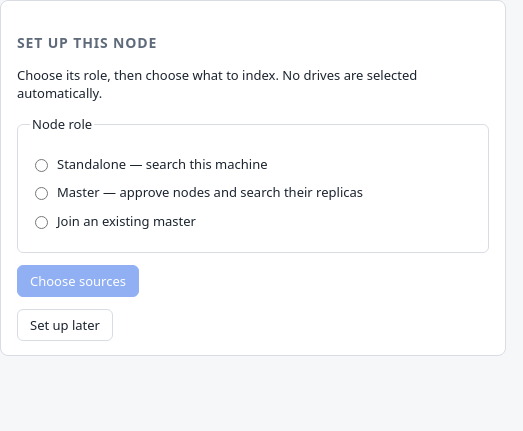
Test: master choice configures discovery before advancing
What coordinates should you click on to do the following:
click the radio button labelled "Master — approve nodes and search their replicas"
I would click on:
 (42, 194)
Its box is [35,187,48,200].
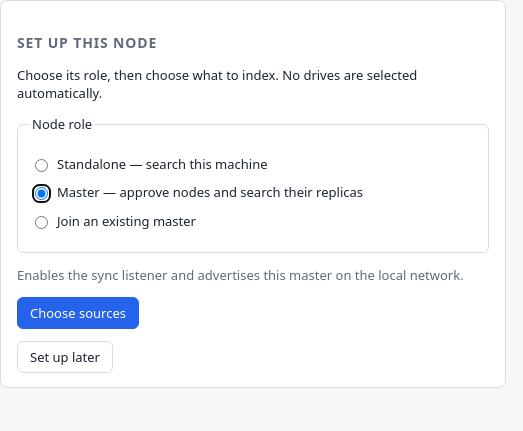
What coordinates should you click on to do the following:
click the button "Choose sources"
I would click on:
 (78, 313)
Its box is [17,297,139,329].
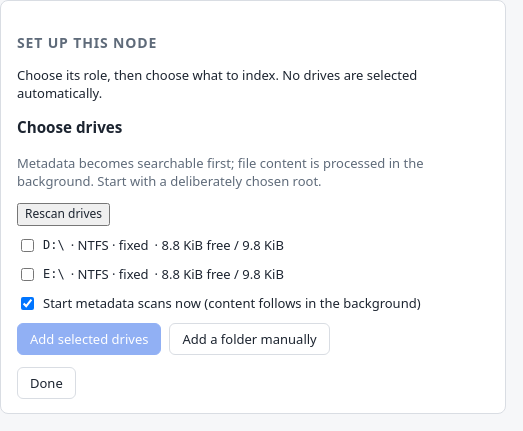
expect the heading "Choose drives" is shown: met, box [17,117,122,137]
